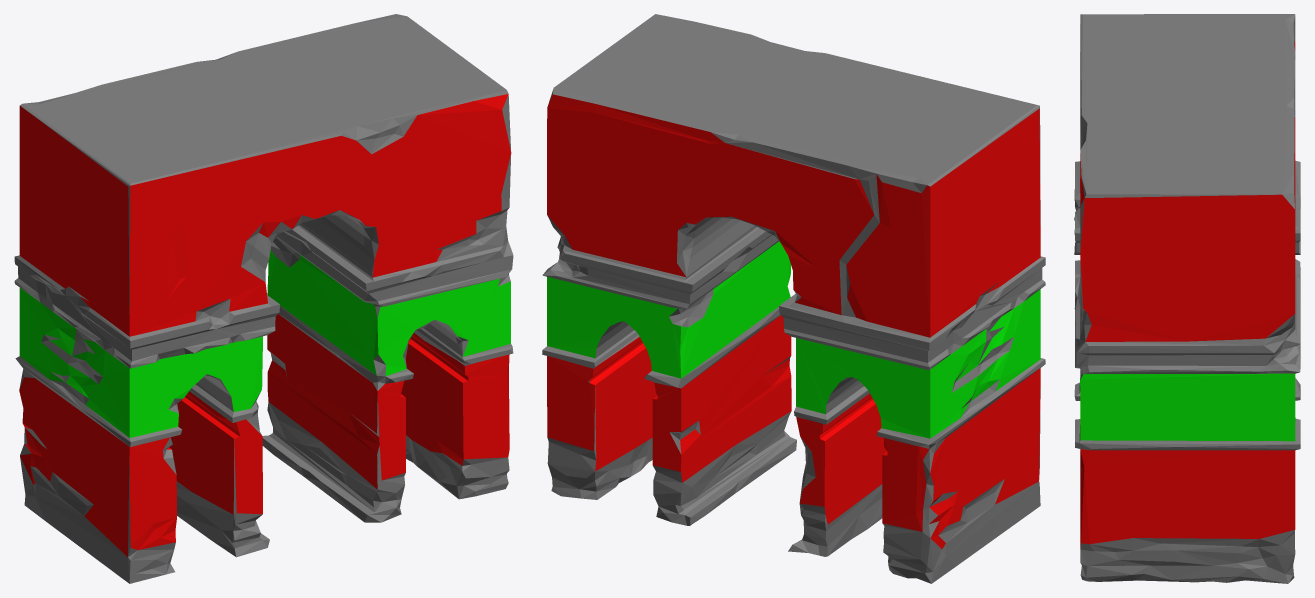
Rendered from Arch01.fbx.
3 views of the same model, side by side, from view 1: azimuth 30°, elevation 25°; view 2: azimuth 150°, elevation 25°; view 3: azimuth 270°, elevation 25° (orthographic). The views are drawn at different scales.
Visible parts, largest first — view 1: Arch01; view 2: Arch01; view 3: Arch01.
Part boxes in pixels (x1,y1,x2,y2): Arch01: [14, 14, 513, 583]; Arch01: [542, 14, 1045, 583]; Arch01: [1074, 14, 1300, 583].
Size of the model in its own units: 1014 by 1001 by 527.
